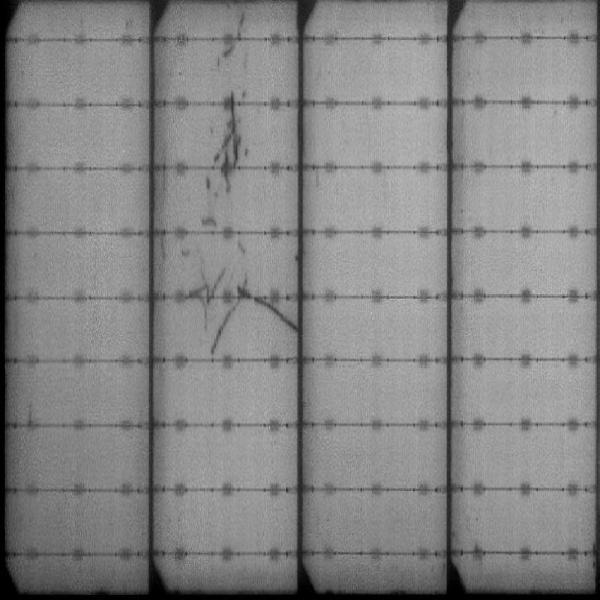scratch: (214, 85, 251, 187), (189, 271, 230, 360), (233, 283, 297, 330), (223, 14, 245, 63)
